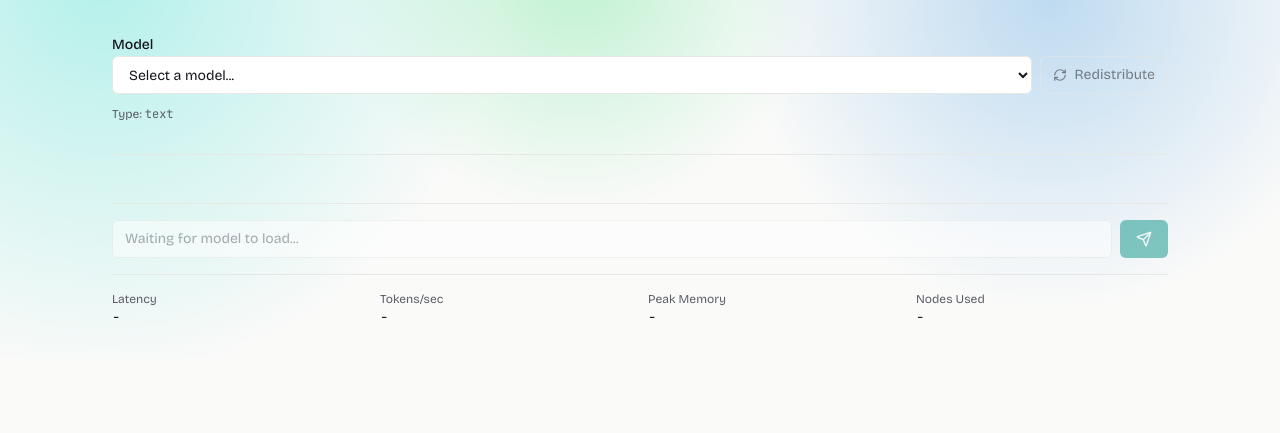
Scenario: Inference › enables the send button once the model reports ready, and a click sends the prompt
Select "dummy-mamba-tiny" in the dropdown labelled "Model": (572, 75) [112, 56, 1032, 94]
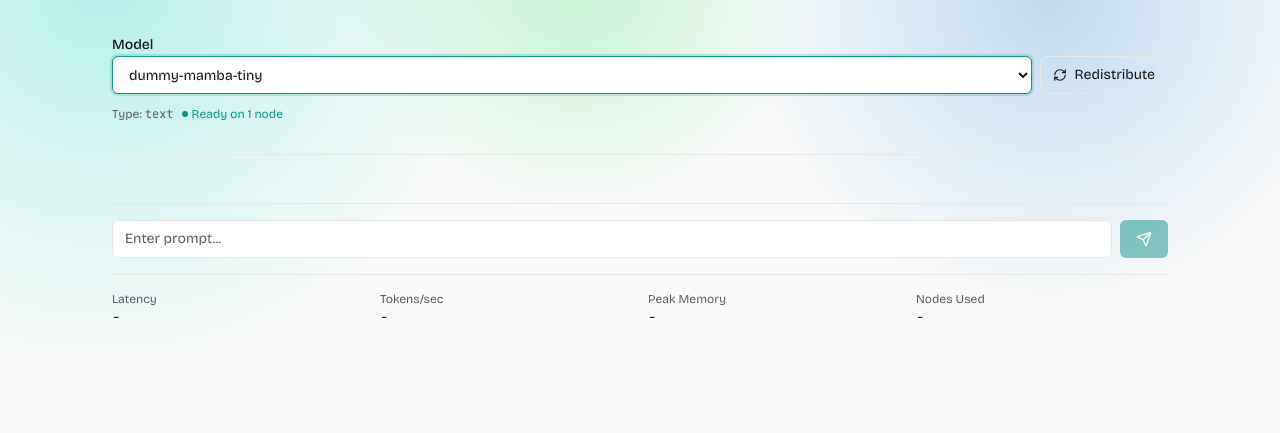
expect the field with placeholder "Enter prompt..." is enabled: met
In the field with placeholder "Enter prompt...": (612, 239) [112, 220, 1112, 258], type "hi there"
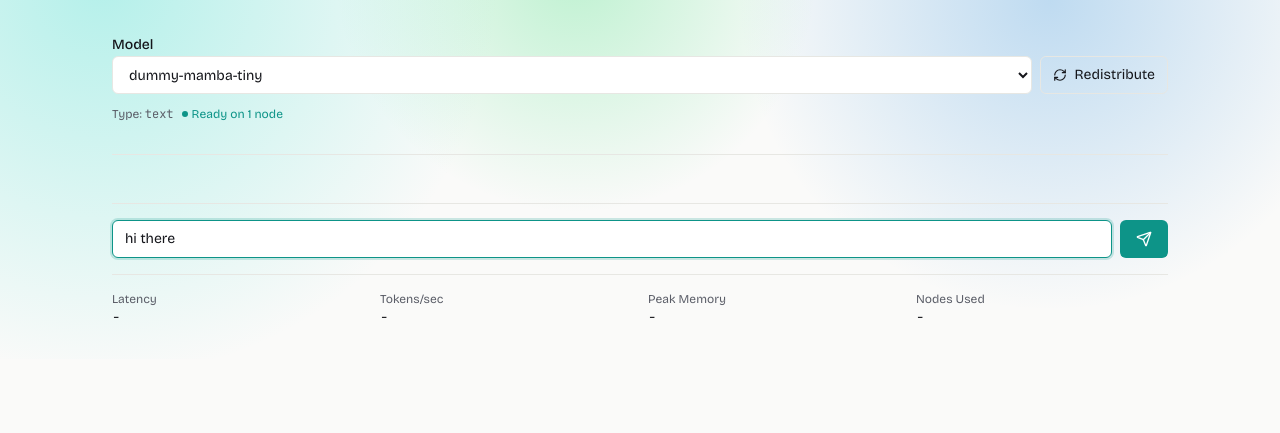
Click the button named "Send": (1144, 239) [1120, 220, 1168, 258]
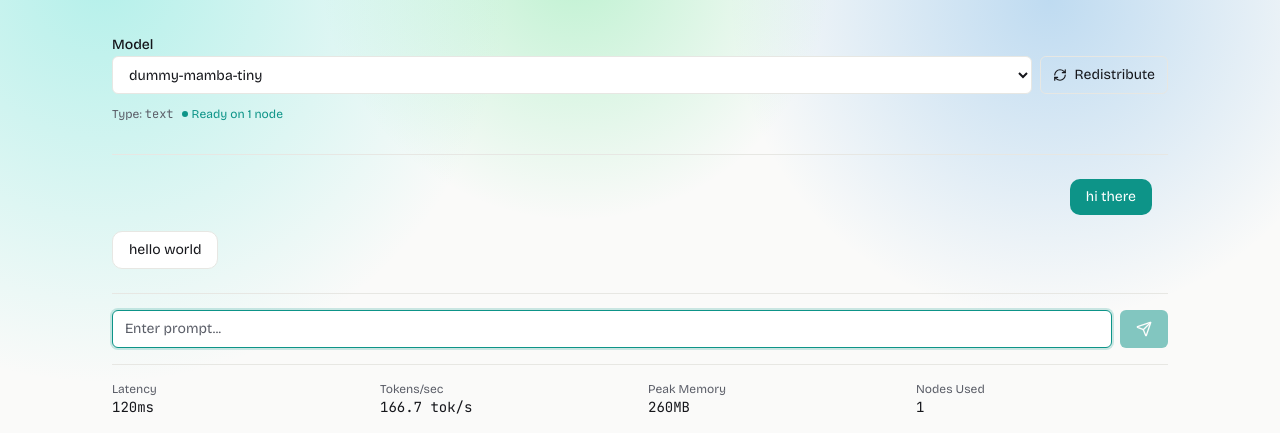
expect the field with placeholder "Enter prompt..." is enabled: met, box [112, 310, 1112, 348]
expect the text "hello world" is shown: met, box [112, 231, 218, 269]
expect the text "166.7 tok/s" is shown: met, box [380, 398, 472, 416]
